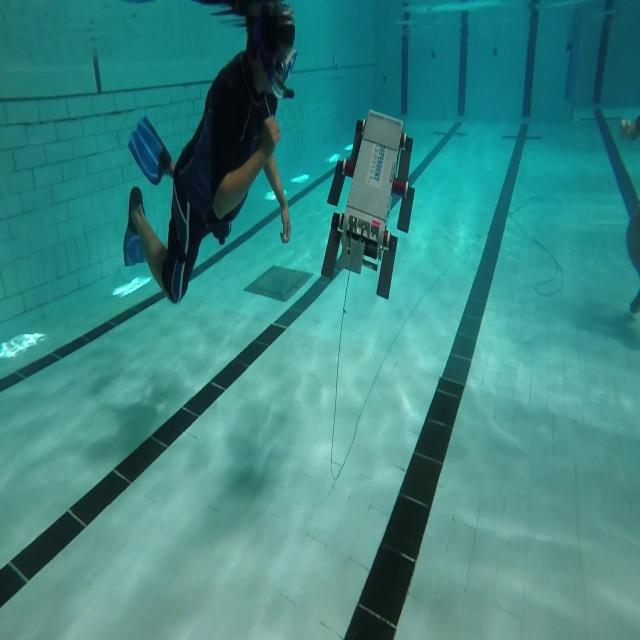human: (123, 0, 297, 305)
